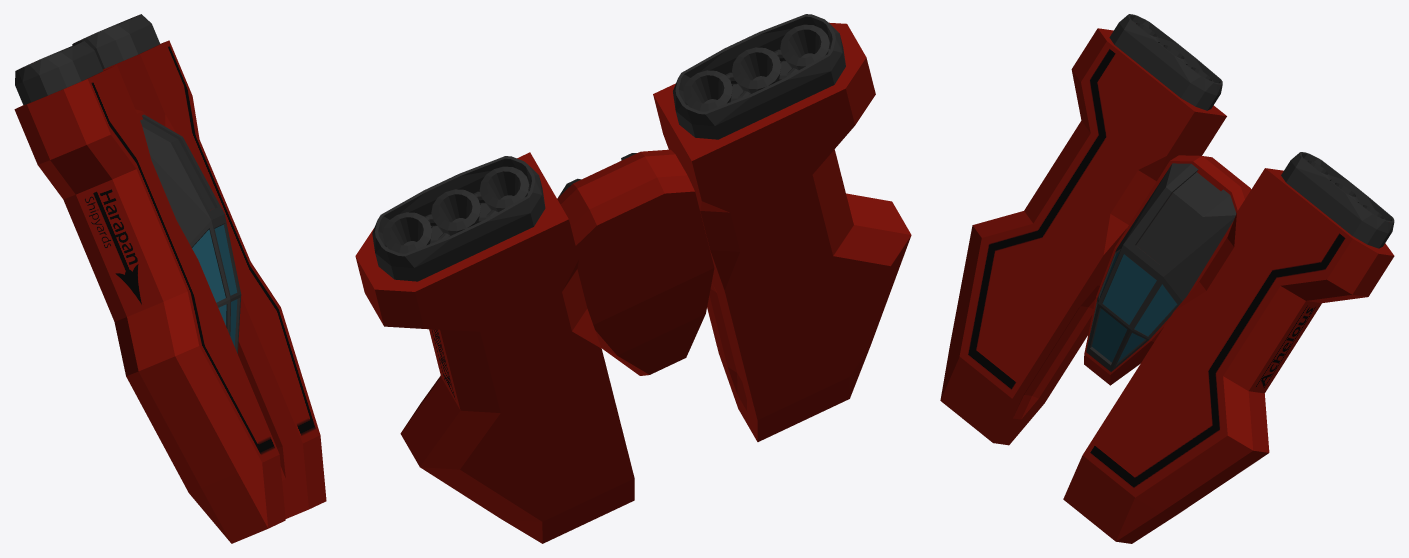
Rendered from Achelous.obj.
The picture shows the model from 3 angles, left to right: view 1: azimuth 30°, elevation 25°; view 2: azimuth 150°, elevation 25°; view 3: azimuth 270°, elevation 25°; orthographic projection. The views are drawn at different scales.
Parts seen in each view (by area): view 1: Ship, Engine_Right, Engine_Right.001; view 2: Ship, Engine_Right.001, Engine_Right; view 3: Ship, Engine_Right, Engine_Right.001.
Boxes of the visible parts, x1,y1,x2,y2 form: Ship: [14, 40, 326, 543]; Engine_Right: [15, 41, 102, 105]; Engine_Right.001: [72, 14, 159, 69]; Ship: [355, 22, 911, 543]; Engine_Right.001: [372, 156, 545, 281]; Engine_Right: [673, 14, 845, 139]; Ship: [940, 28, 1394, 543]; Engine_Right: [1109, 14, 1222, 110]; Engine_Right.001: [1281, 152, 1394, 248].
Bounding box in the file's own units: 6.86 × 10.5 × 10.01.
